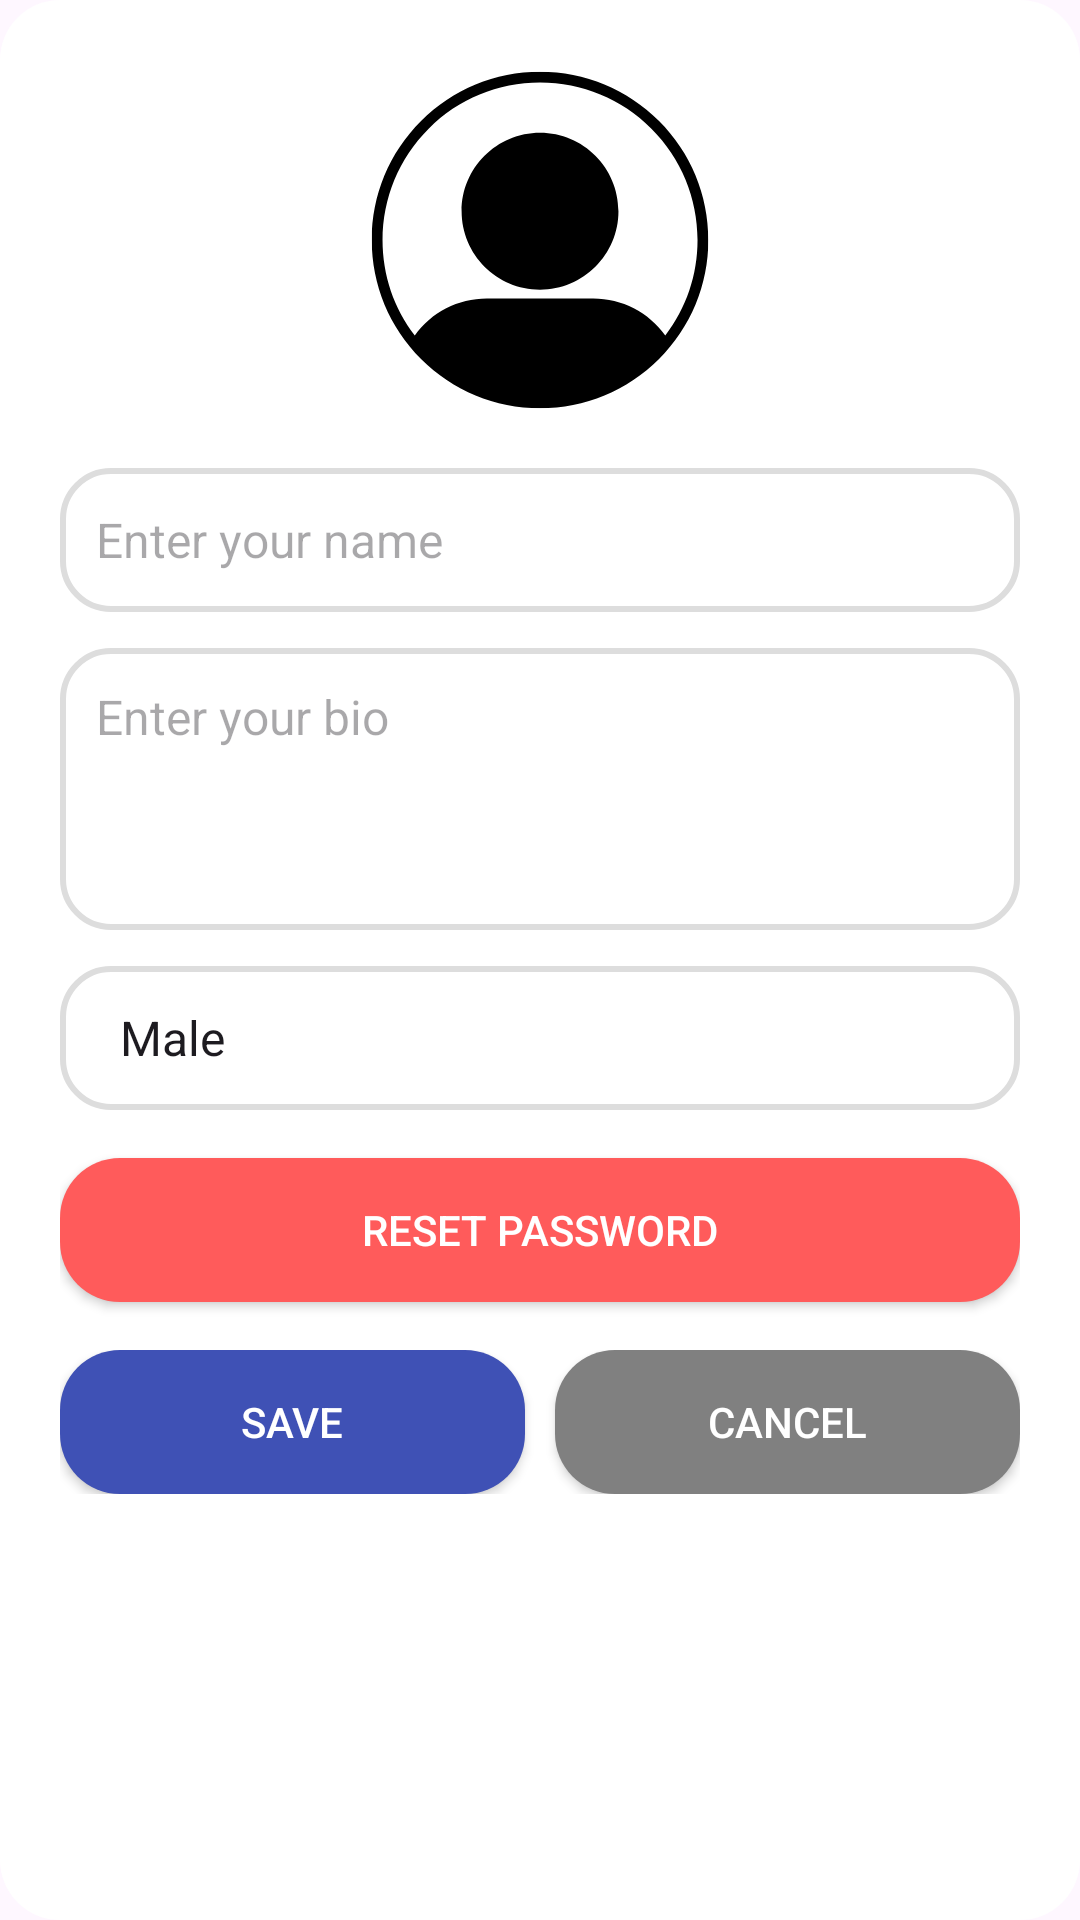

Where icons sit on this 1080x1920 app screen, as (x1, y1, x2, y2):
profile: (372, 72, 709, 408)
